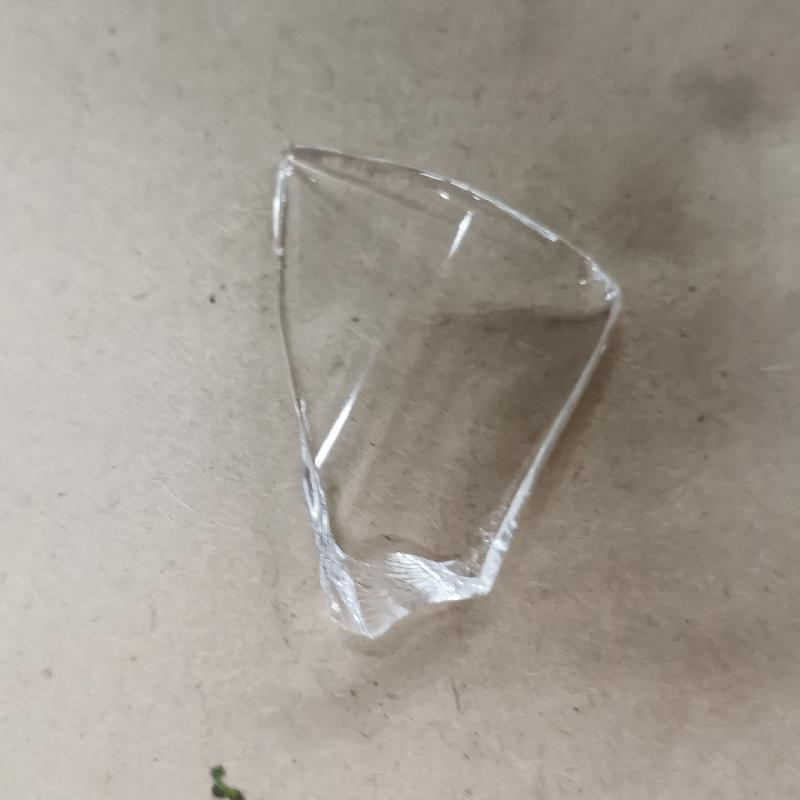glass: (267, 142, 619, 636)
